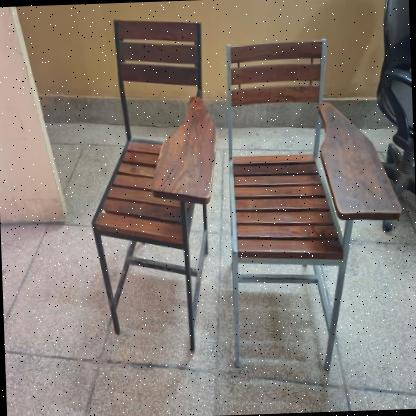chair: (213, 24, 406, 378), (71, 9, 226, 356)
